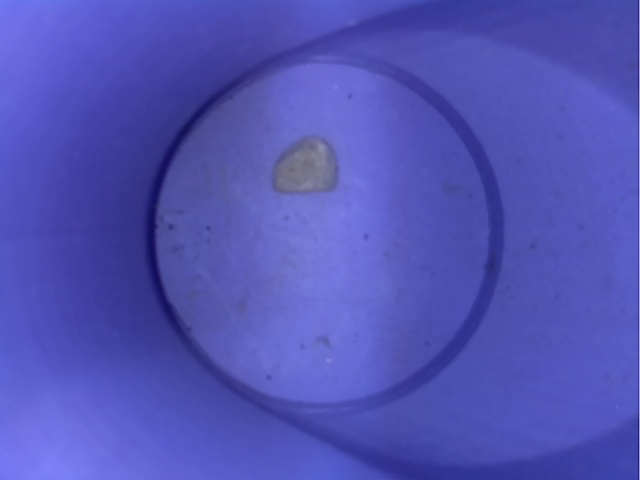caillou: (251, 121, 344, 202)
